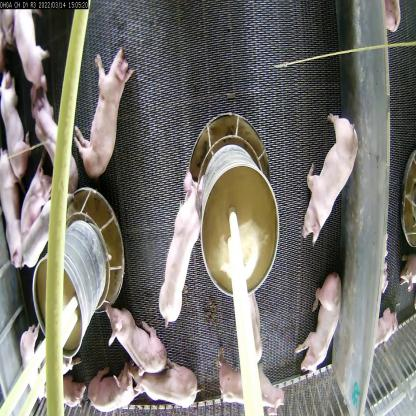Pig: (77, 38, 135, 184), (157, 166, 205, 336), (300, 111, 362, 240), (25, 83, 78, 204), (103, 284, 169, 379), (293, 262, 340, 376), (209, 347, 282, 415), (0, 79, 36, 202), (130, 358, 194, 414), (10, 0, 46, 84), (0, 142, 25, 261), (87, 369, 138, 411), (20, 156, 50, 224), (19, 310, 45, 380), (45, 371, 88, 403)
